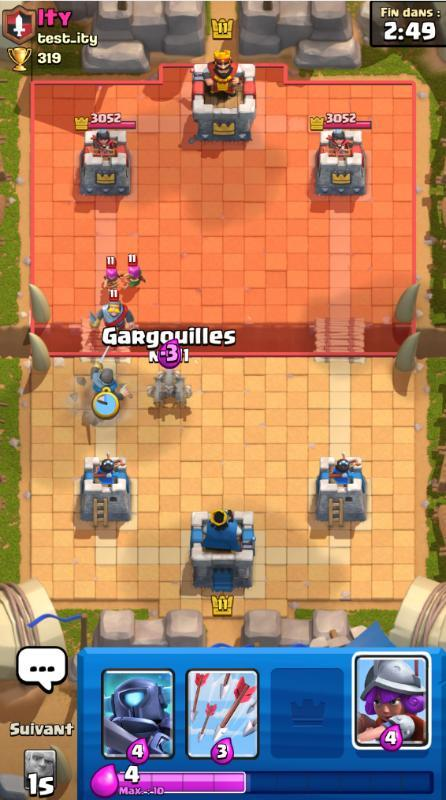archere: (121, 253, 146, 290), (102, 256, 121, 291)
chevalier: (90, 345, 131, 401), (89, 288, 136, 330)
gargouille: (169, 377, 194, 408), (147, 377, 169, 408), (157, 368, 181, 386)
